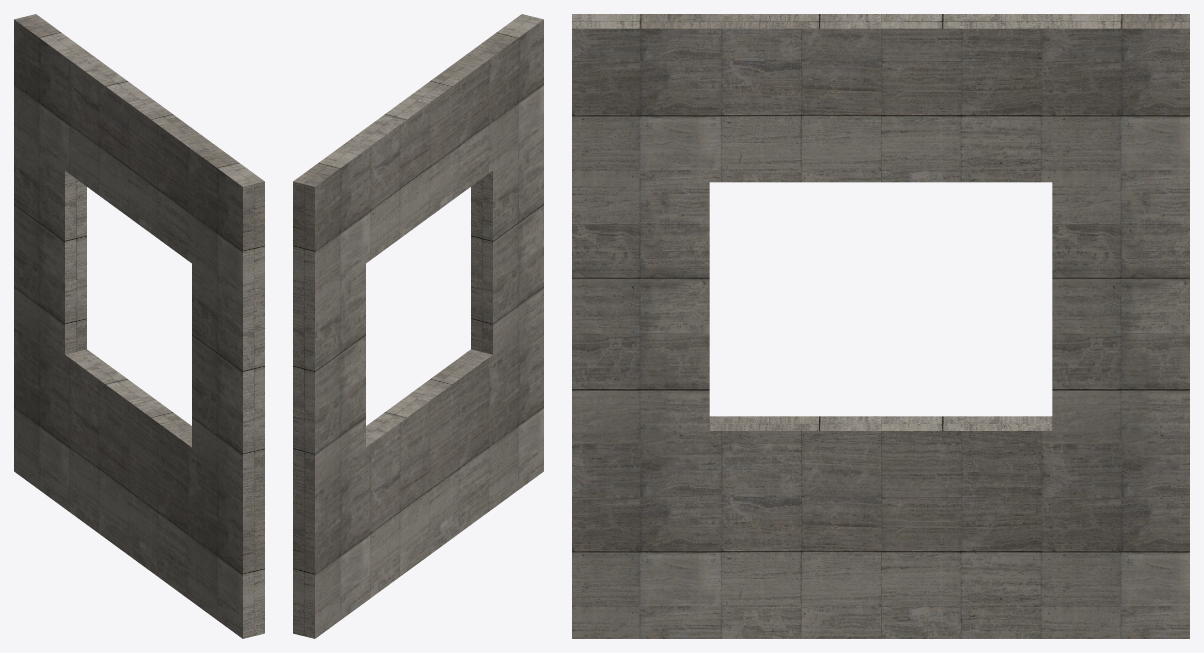
Rendered from soupwindwall041.glb.
3 renders of one model, left to right at view 1: azimuth 30°, elevation 25°; view 2: azimuth 150°, elevation 25°; view 3: azimuth 270°, elevation 25°, orthographic. The views are drawn at different scales.
Visible parts, largest first — view 1: soupwindwall041_high_1; view 2: soupwindwall041_high_1; view 3: soupwindwall041_high_1.
Part boxes in pixels (left/top/right/bottom): soupwindwall041_high_1: left=14, top=14, right=264, bottom=638; soupwindwall041_high_1: left=293, top=14, right=543, bottom=638; soupwindwall041_high_1: left=572, top=14, right=1189, bottom=638.
Bounding box in the file's own units: 0.1504 × 2.95 × 2.7.
1 material, 1 textured.
